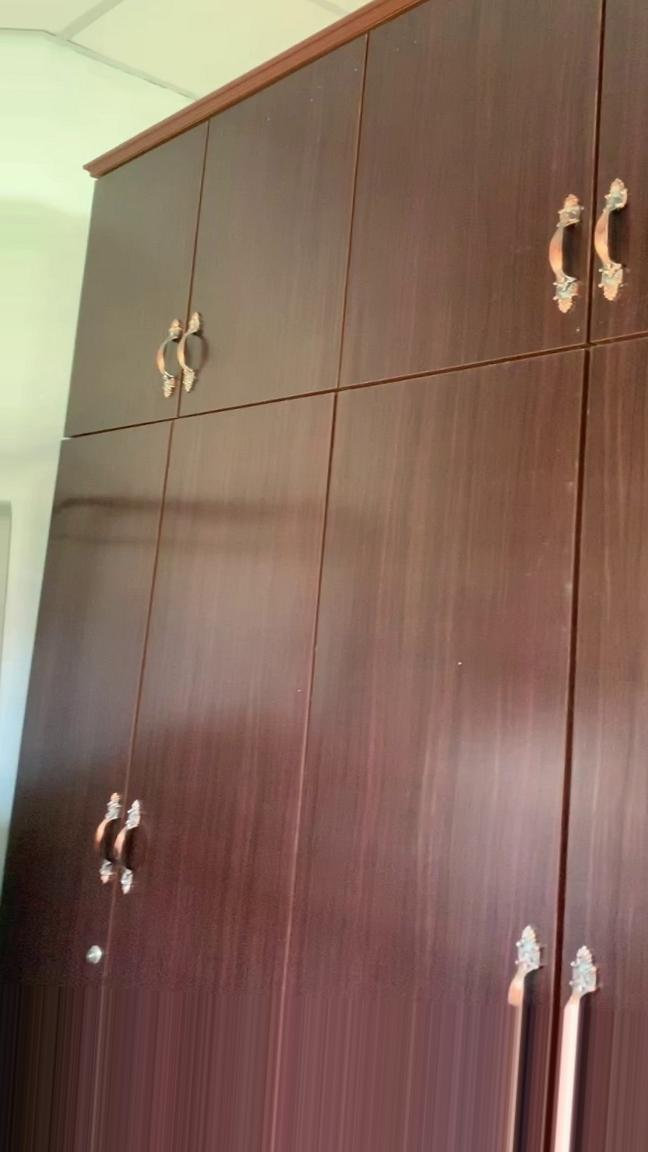Armario: (4, 9, 641, 1139)
